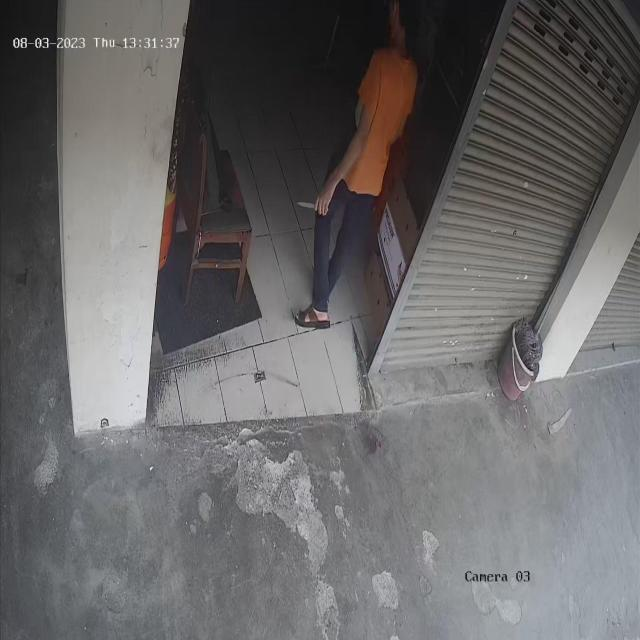Knife: (289, 182, 336, 221)
